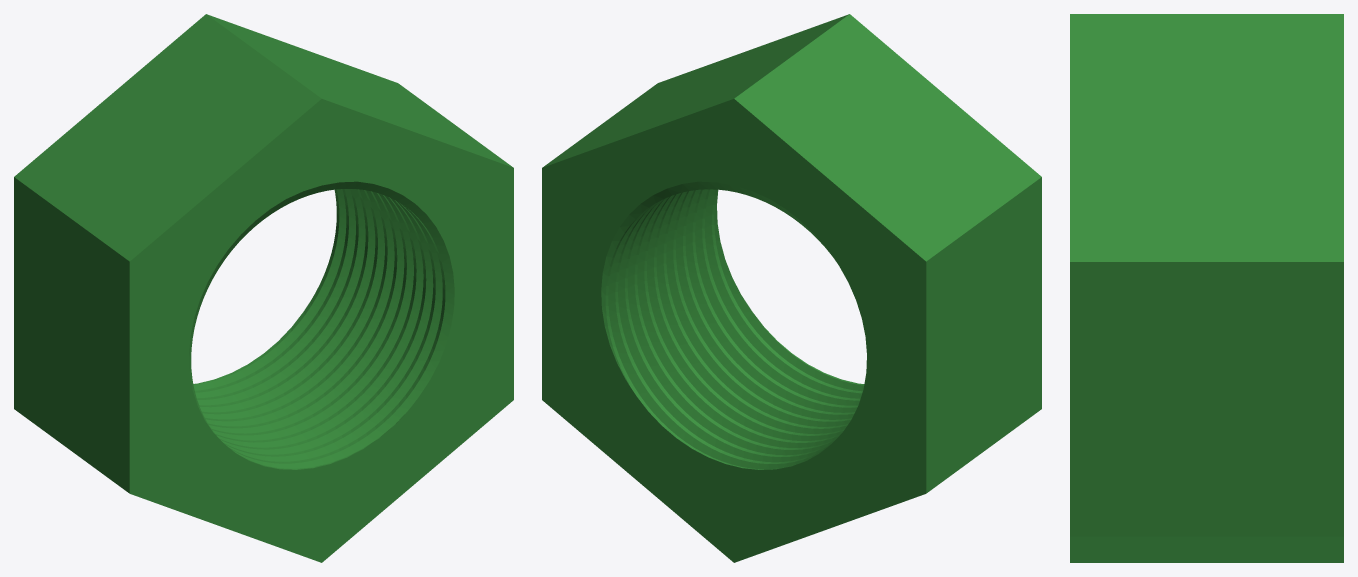
Rendered from Nut_Corpo1.obj.
3 views of the same model, side by side, from view 1: azimuth 30°, elevation 25°; view 2: azimuth 150°, elevation 25°; view 3: azimuth 270°, elevation 25° (orthographic). The views are drawn at different scales.
Bounding box in the file's own units: 0.046 × 0.0531 × 0.024.
